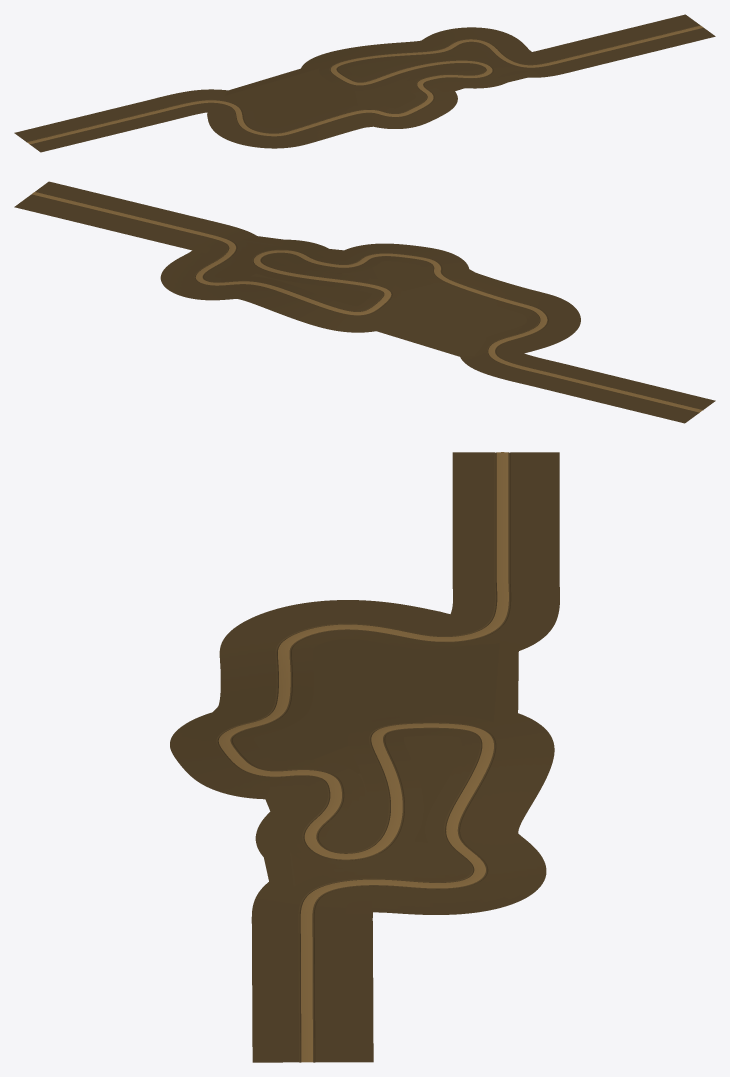
The model's file is Level2.fbx.
The picture shows the model from 3 angles, top to bottom: view 1: azimuth 30°, elevation 25°; view 2: azimuth 150°, elevation 25°; view 3: azimuth 270°, elevation 25°; orthographic projection. The views are drawn at different scales.
Visible parts, largest first — view 1: DirtOutside, DirtRoad; view 2: DirtOutside, DirtRoad; view 3: DirtOutside, DirtRoad.
Part boxes in pixels (box(x1,y1,x2,y2)): DirtOutside: box(14, 14, 715, 152); DirtRoad: box(27, 25, 703, 144); DirtOutside: box(14, 181, 715, 423); DirtRoad: box(32, 192, 702, 412); DirtOutside: box(170, 452, 559, 1062); DirtRoad: box(218, 452, 508, 1062).
Size of the model in its own units: 62040 by 825 by 16770.
